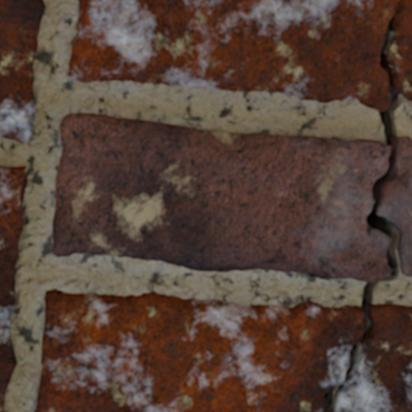brick: (0, 166, 26, 411), (0, 0, 44, 141)
broken_brick: (52, 112, 389, 282), (34, 288, 363, 411), (67, 0, 411, 111), (335, 303, 411, 411), (379, 136, 411, 276), (404, 98, 411, 101)
crack: (320, 2, 411, 411), (193, 129, 257, 138)
